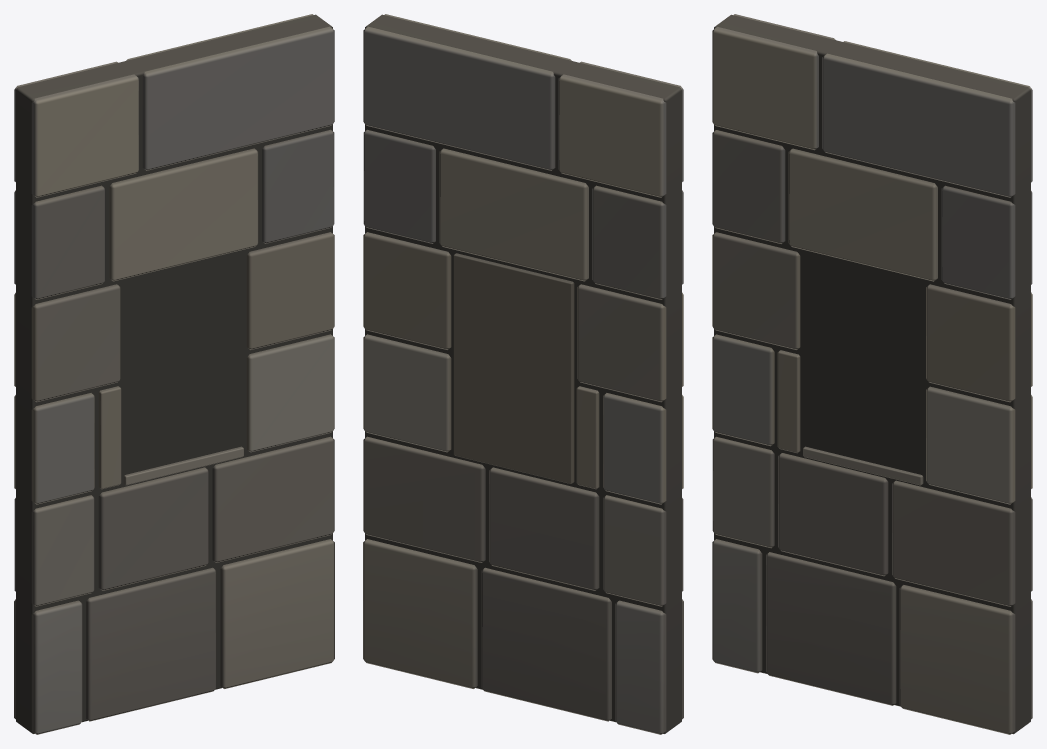
The model's file is ashlar-wall-niche.glb.
The picture shows the model from 3 angles, left to right: view 1: azimuth 30°, elevation 25°; view 2: azimuth 150°, elevation 25°; view 3: azimuth 330°, elevation 25°; orthographic projection.
Visible parts, largest first — view 1: body; view 2: body; view 3: body.
Part boxes in pixels (x1,y1,x2,y2): body: (14, 14, 334, 734); body: (363, 14, 683, 734); body: (712, 14, 1032, 734).
Size of what is drawn, in the model's own units: 0.99 by 1.99 by 0.1319.
